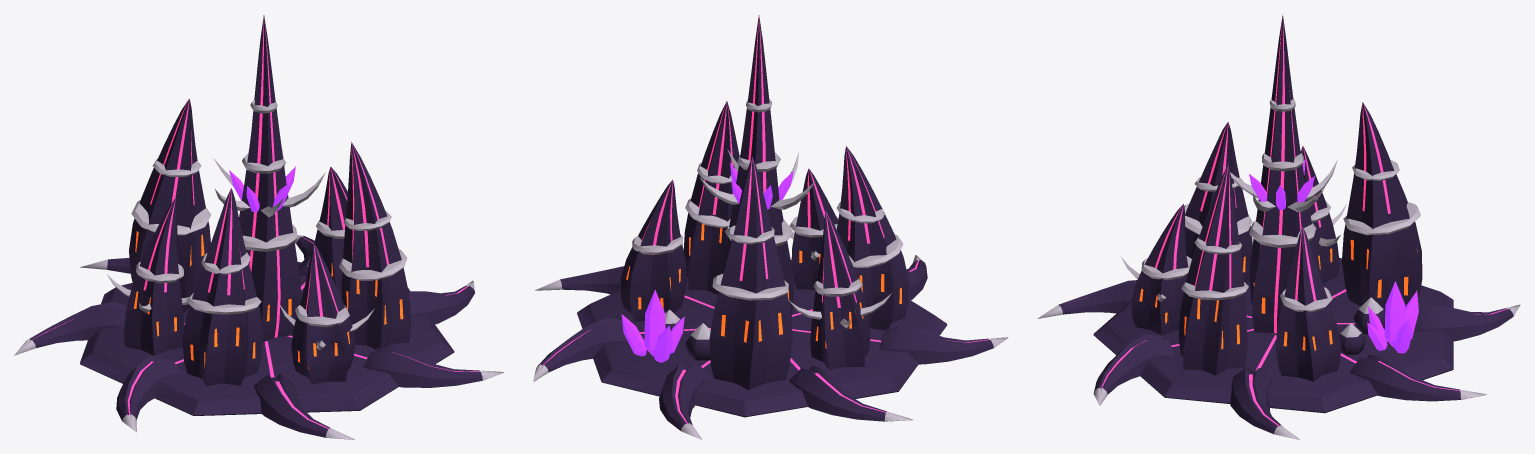
The model's file is alien_city_a.glb.
3 renders of one model, left to right at view 1: azimuth 30°, elevation 25°; view 2: azimuth 150°, elevation 25°; view 3: azimuth 270°, elevation 25°, orthographic.
Visible parts, largest first — view 1: AlienCityA; view 2: AlienCityA; view 3: AlienCityA.
Part boxes in pixels (left/top/right/bottom): AlienCityA: left=14, top=15, right=504, bottom=439; AlienCityA: left=533, top=15, right=1008, bottom=439; AlienCityA: left=1037, top=14, right=1520, bottom=439.
Bounding box in the file's own units: 37.54 × 27.8 × 37.9.
